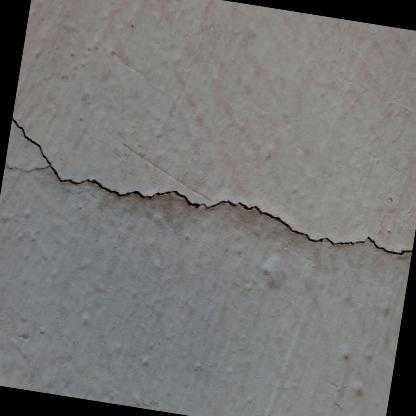crack: (11, 117, 412, 256)
